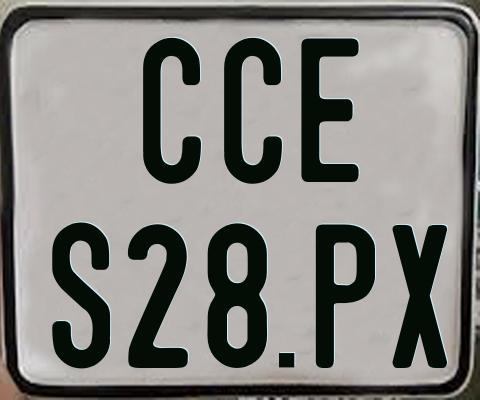2: (125, 224, 188, 370)
8: (205, 220, 269, 369)
C: (224, 36, 288, 187), (143, 38, 202, 187)
E: (298, 37, 360, 185)
P: (315, 221, 380, 371)
S: (50, 219, 108, 369)
X: (391, 224, 449, 372)
